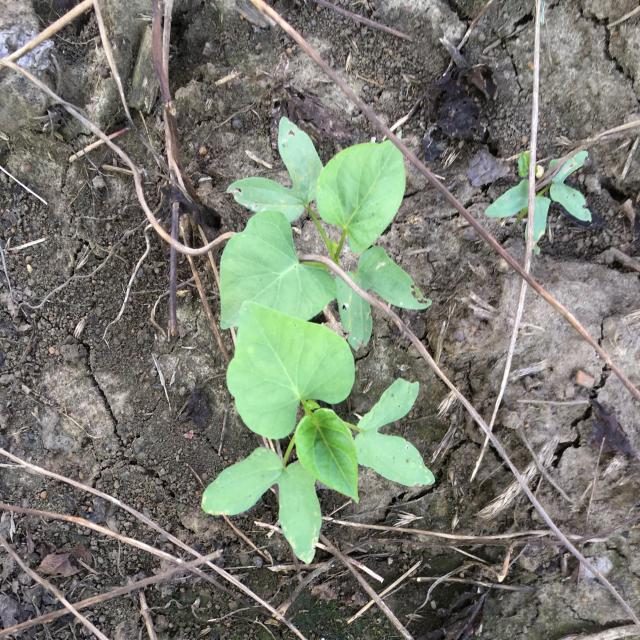MorningGlory: (200, 301, 436, 565), (219, 115, 433, 354), (484, 150, 592, 256)
